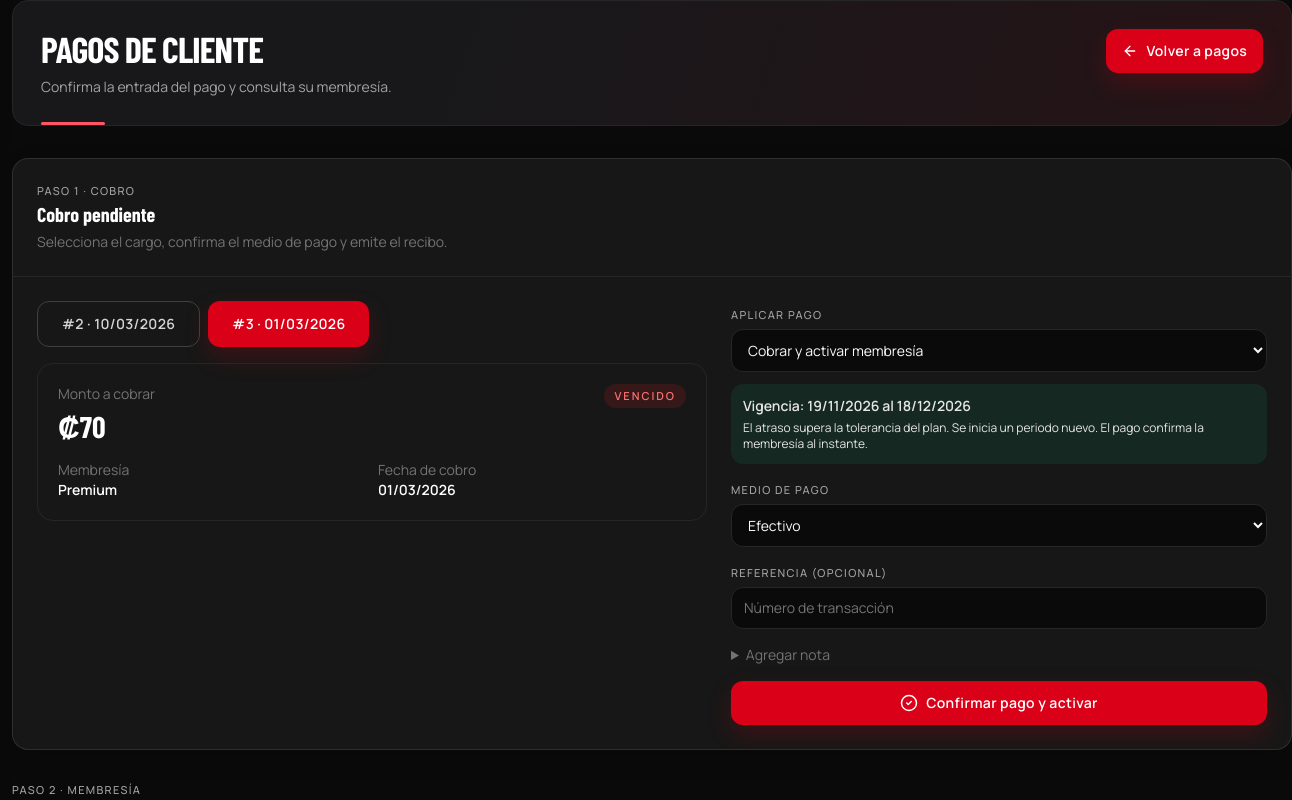
Scenario: BillingPage › permite saldar deuda sin prometer activación y envía la decisión
This screenshot has width=1292, height=800.
Later steps or results of the test are not shown.
Check: the text "Vigencia: 19/11/2026 al 18/12/2026" is shown, box [743, 396, 971, 414]
Select "Solo pagar deuda anterior" in the dropdown labelled "Aplicar pago" at (999, 350), box [731, 328, 1267, 372]
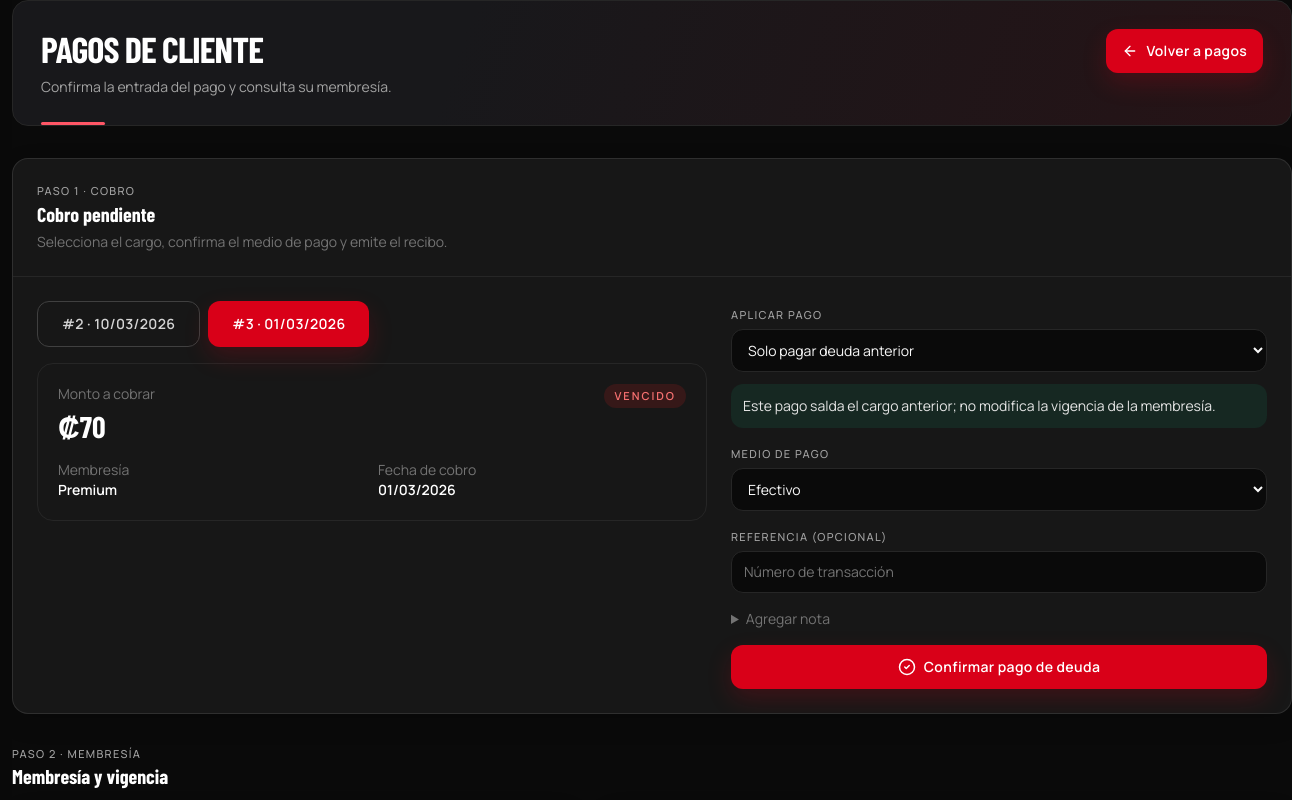
Check: the text "no modifica la vigencia" is shown, box [743, 396, 1216, 414]
